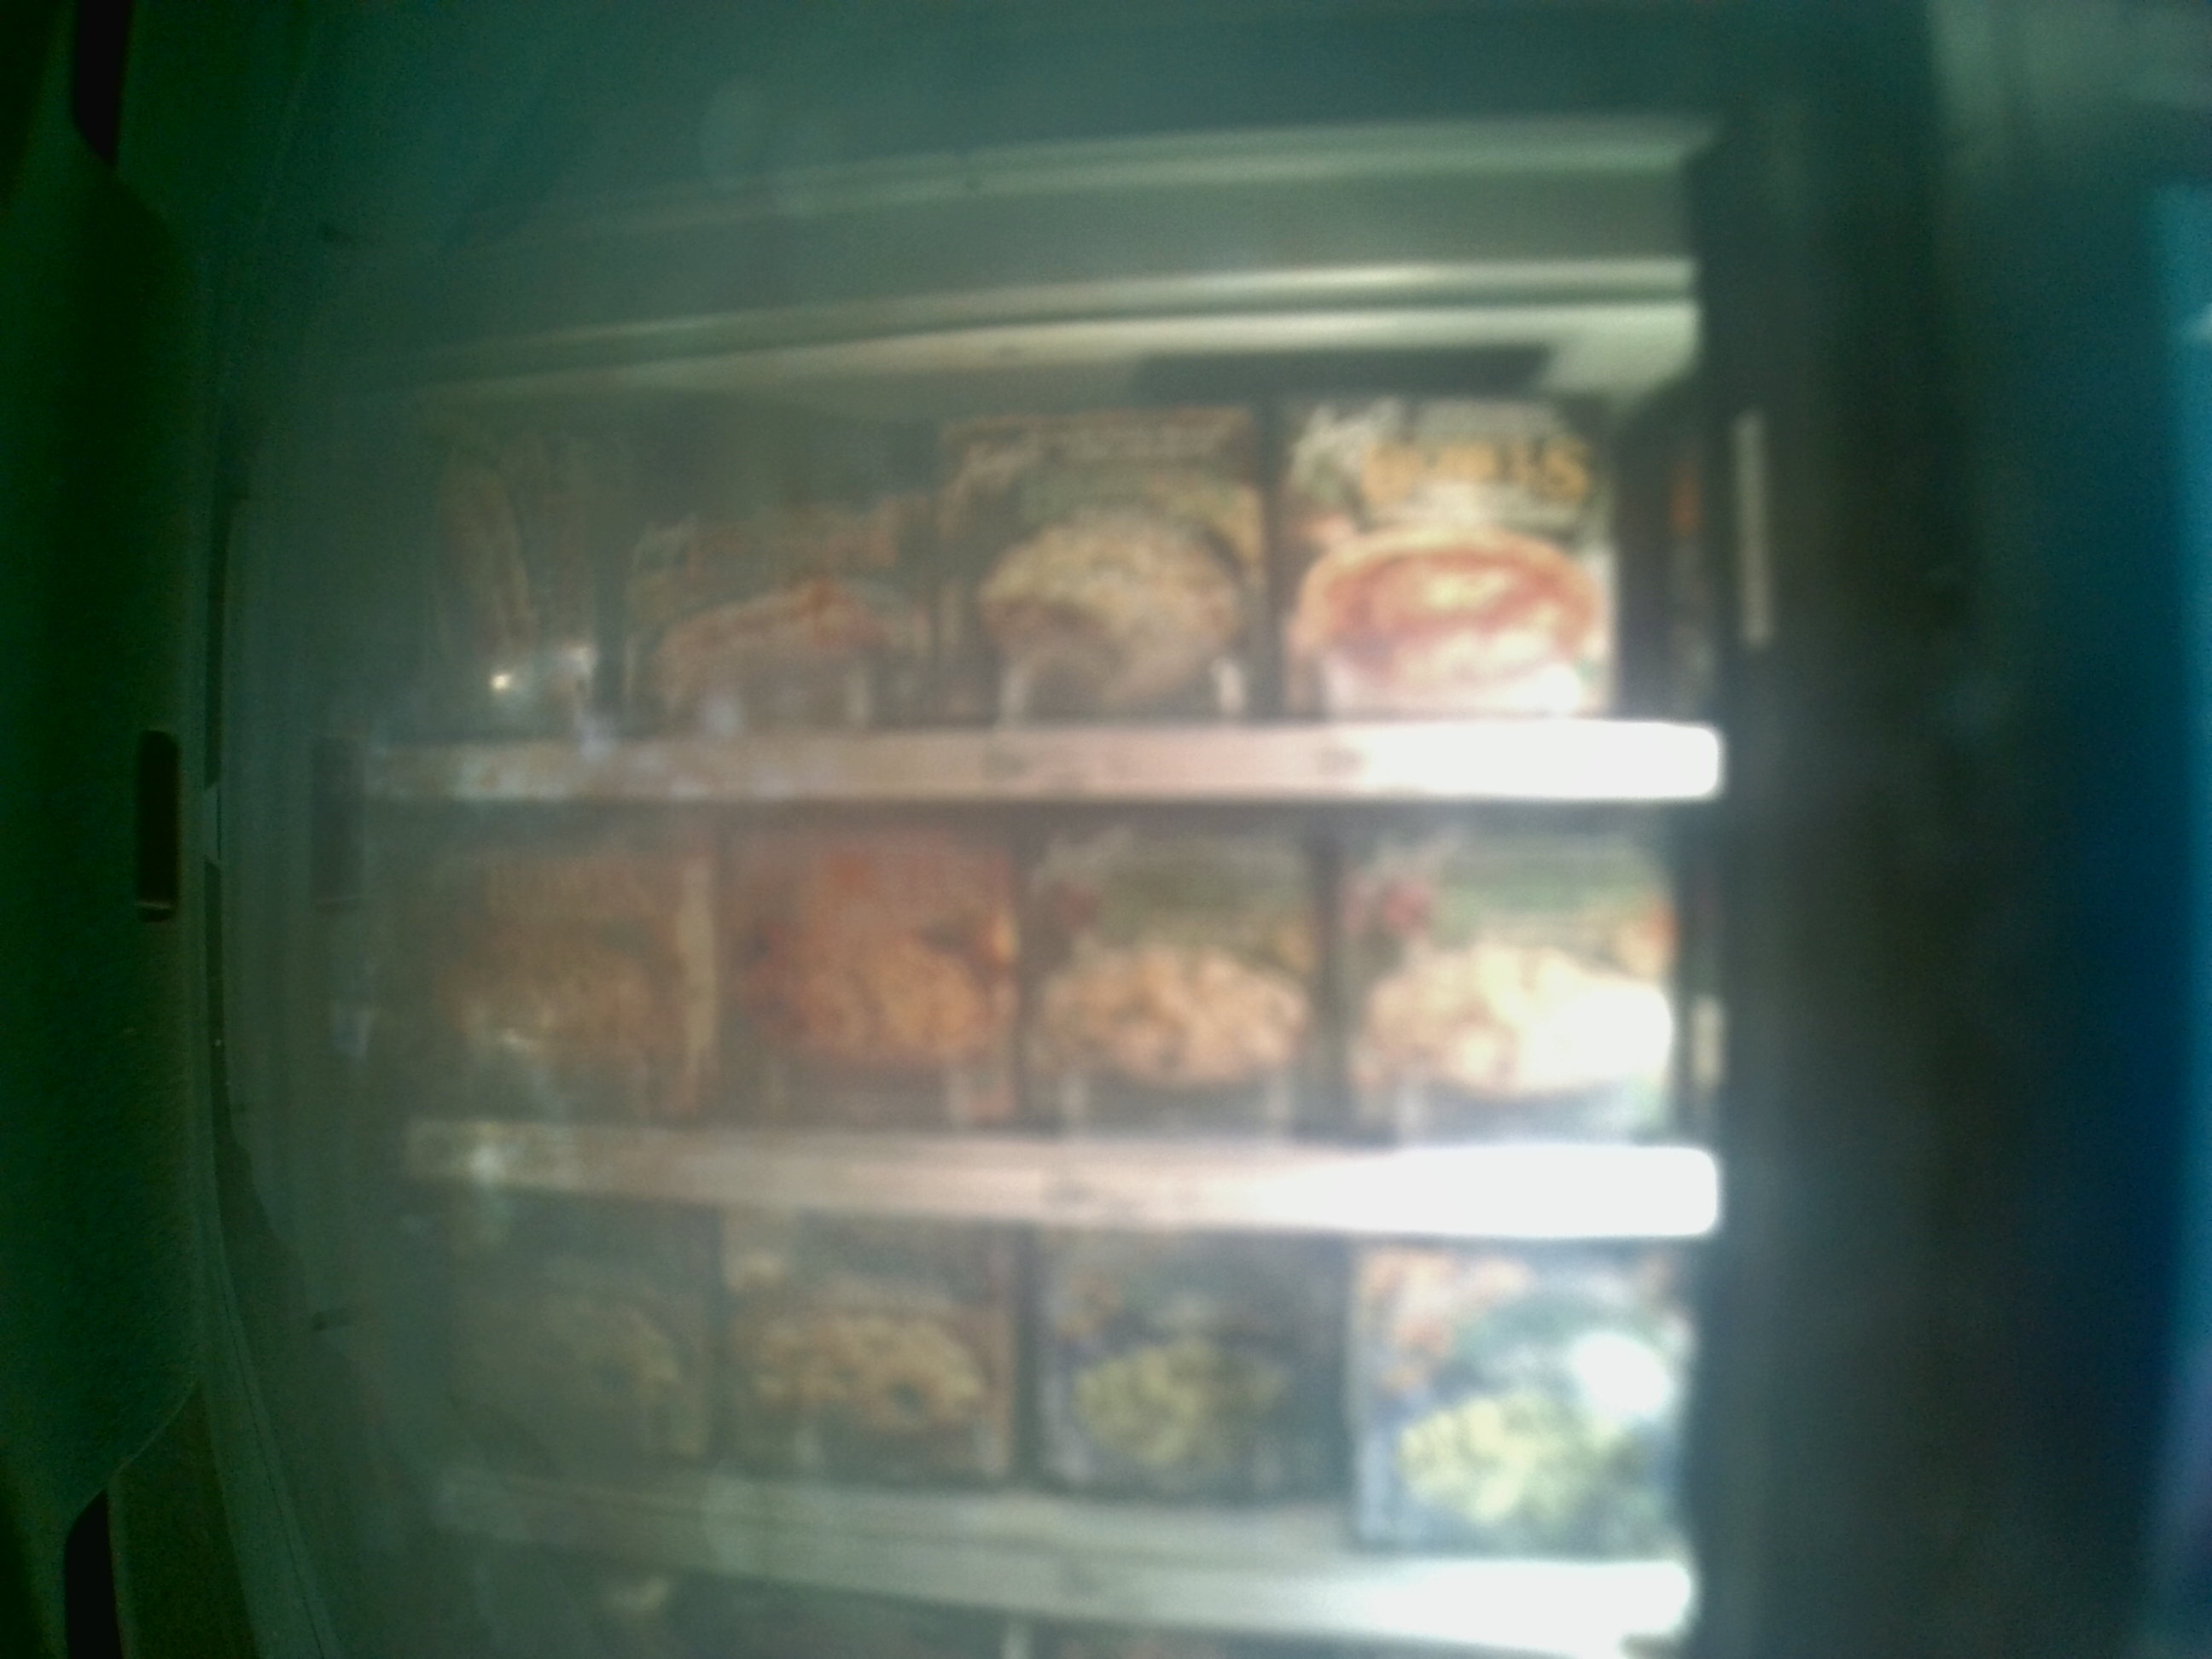frozen-food-shelf: (294, 364, 1721, 812), (298, 812, 1745, 1241)
